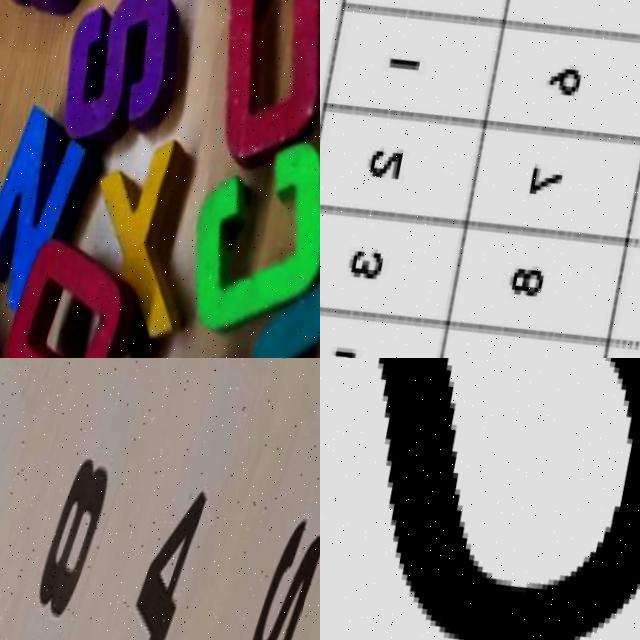1: (377, 53, 434, 80)
2: (202, 476, 320, 640), (362, 144, 414, 191)
3: (343, 243, 387, 292)
4: (92, 463, 226, 640), (323, 344, 369, 358)
5: (558, 0, 608, 10)
6: (543, 62, 591, 110)
7: (519, 167, 567, 206)
8: (0, 431, 129, 640), (503, 263, 552, 307)
G: (0, 0, 118, 30)
O: (0, 229, 141, 358)
S: (320, 358, 640, 640)
U: (181, 0, 320, 214)
